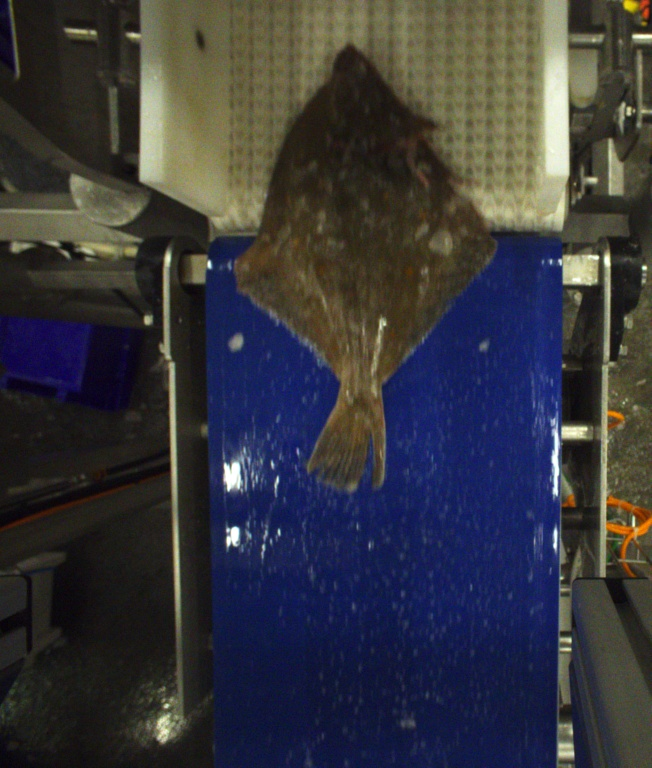PLE: (232, 42, 499, 491)
